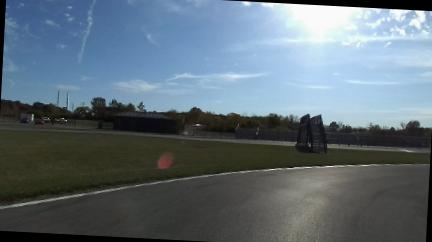Grass: (0, 131, 430, 202)
Lane: (0, 165, 429, 241), (0, 123, 294, 145)
